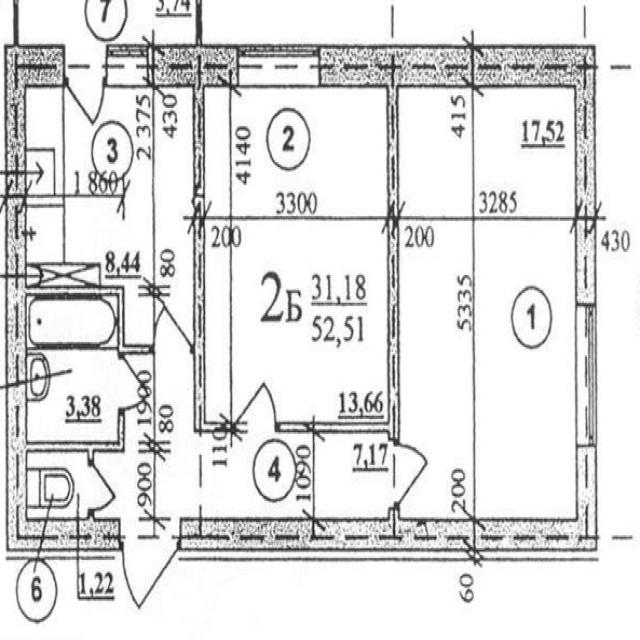Bathrooms: (29, 297, 118, 439), (28, 454, 87, 516)
Corridors: (94, 356, 389, 517), (27, 88, 192, 345), (19, 0, 195, 44)
Doors: (120, 516, 180, 614), (64, 43, 106, 129), (389, 442, 431, 507), (233, 376, 279, 433), (152, 301, 192, 354), (119, 357, 152, 414), (88, 463, 119, 512)
LBwalls: (4, 88, 122, 552), (180, 447, 598, 552), (321, 44, 597, 87), (574, 87, 597, 304), (151, 44, 236, 88), (4, 45, 64, 89)
Offices: (400, 89, 574, 517), (206, 90, 387, 421)
Walls: (278, 87, 400, 441), (192, 88, 233, 433), (28, 286, 153, 357), (28, 407, 125, 465), (13, 0, 19, 45), (196, 0, 202, 44)
Windows: (237, 44, 320, 87), (575, 305, 597, 446), (106, 43, 149, 87)
